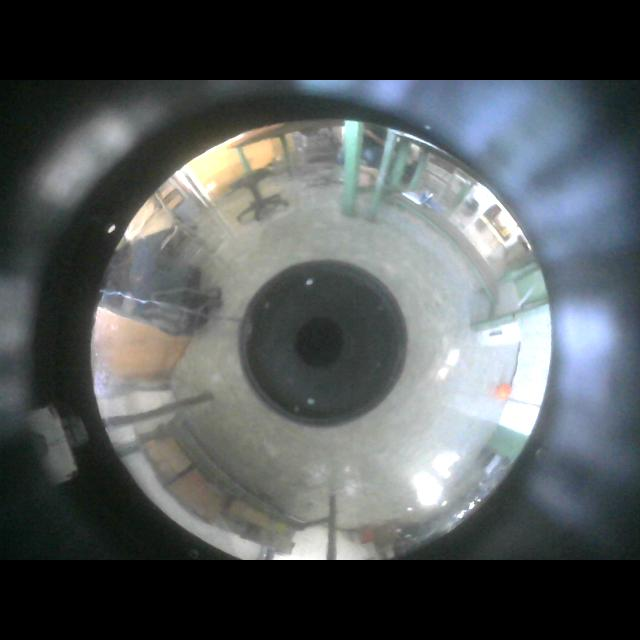bola: (498, 383, 512, 400)
